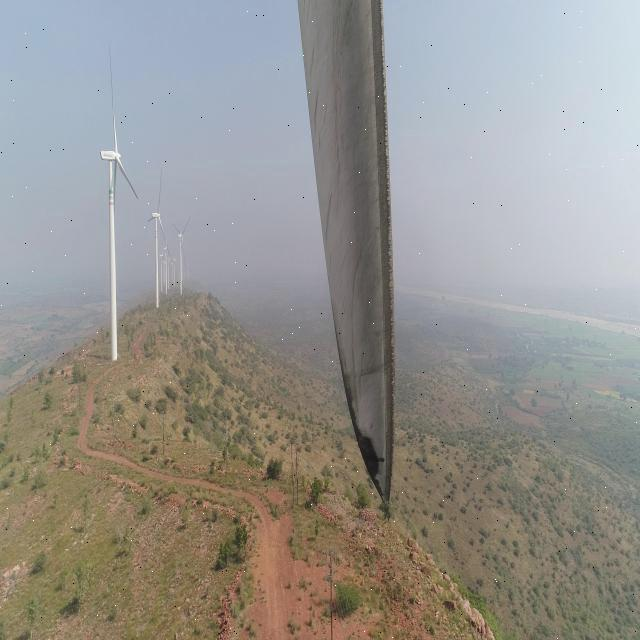Dirt: (297, 0, 394, 505)
Oil LEAKAGE: (342, 353, 390, 508)
Pin Hole: (379, 453, 385, 469)
